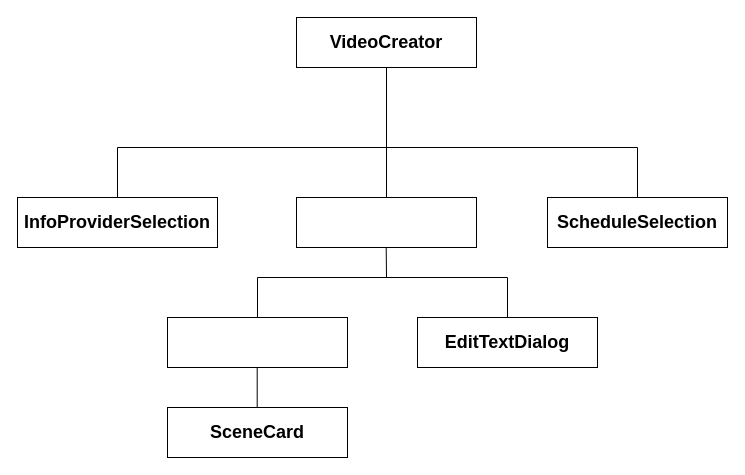
Some shapes in this 745 by 475 pixel diagram are drawn without their labels. Each missing label, with the centre of its shape:
SceneContainer: the point at 257,342
VideoEditor: the point at 386,222
